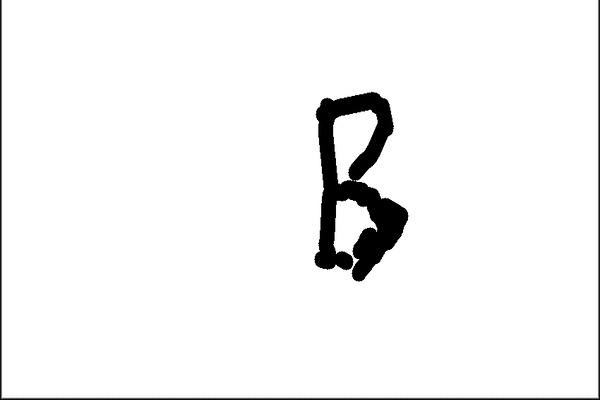B: (300, 84, 415, 284)
